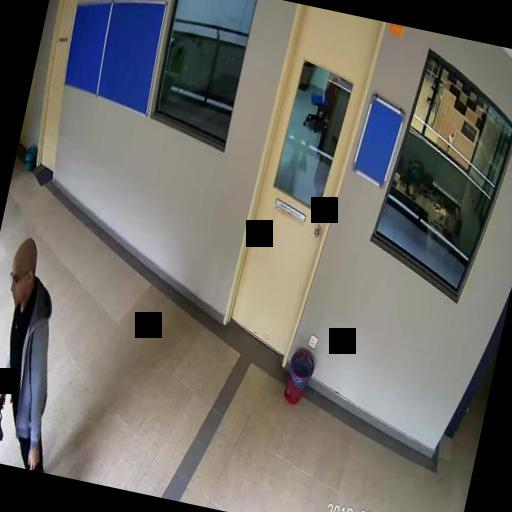Handgun: (0, 394, 10, 439)
